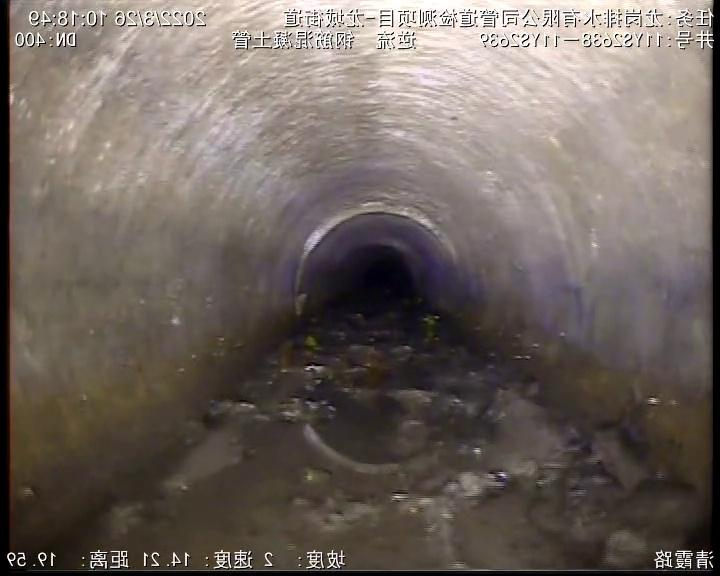CJ: (64, 300, 695, 568)
CKTJ: (287, 195, 465, 319)
